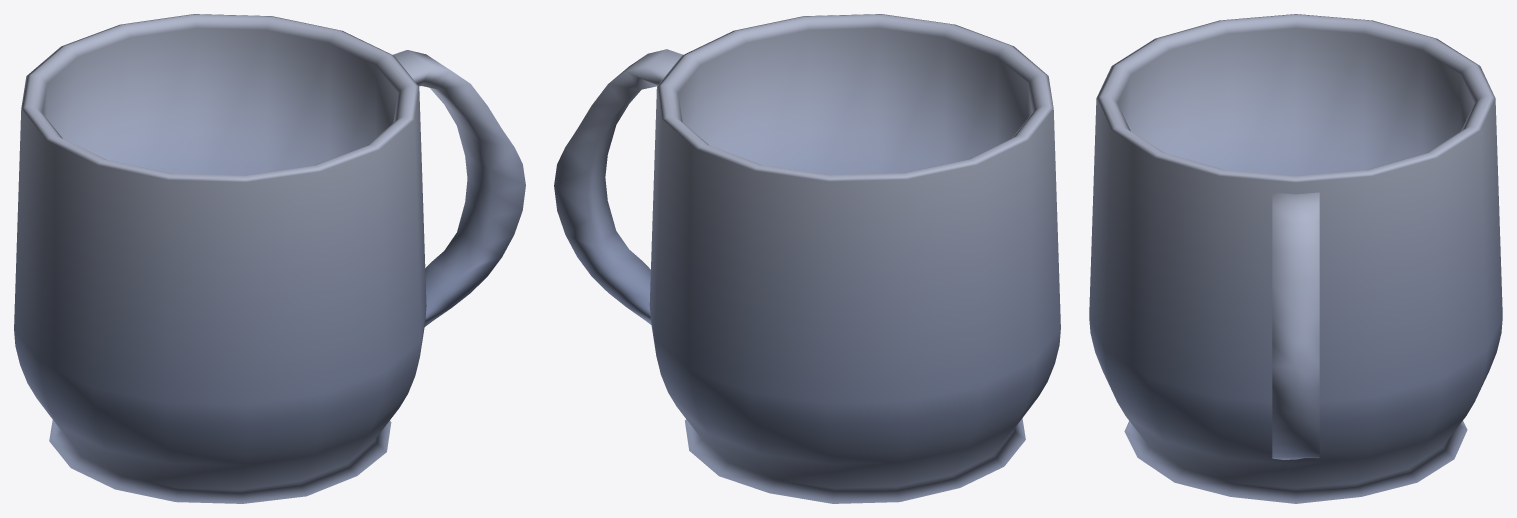
File: Cup.fbx
3 views of the same model, side by side, from view 1: azimuth 30°, elevation 25°; view 2: azimuth 150°, elevation 25°; view 3: azimuth 270°, elevation 25° (orthographic).
Parts seen in each view (by area): view 1: Cup; view 2: Cup; view 3: Cup.
Boxes of the visible parts, x1,y1,x2,y2 form: Cup: (14,14,525,503); Cup: (554,14,1060,503); Cup: (1089,14,1502,503).
Size of the model in its own units: 273 by 185 by 207.
